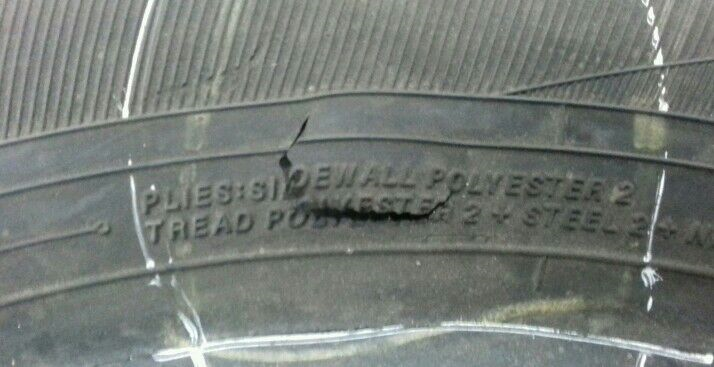cut: (307, 188, 452, 226), (276, 118, 308, 186)
